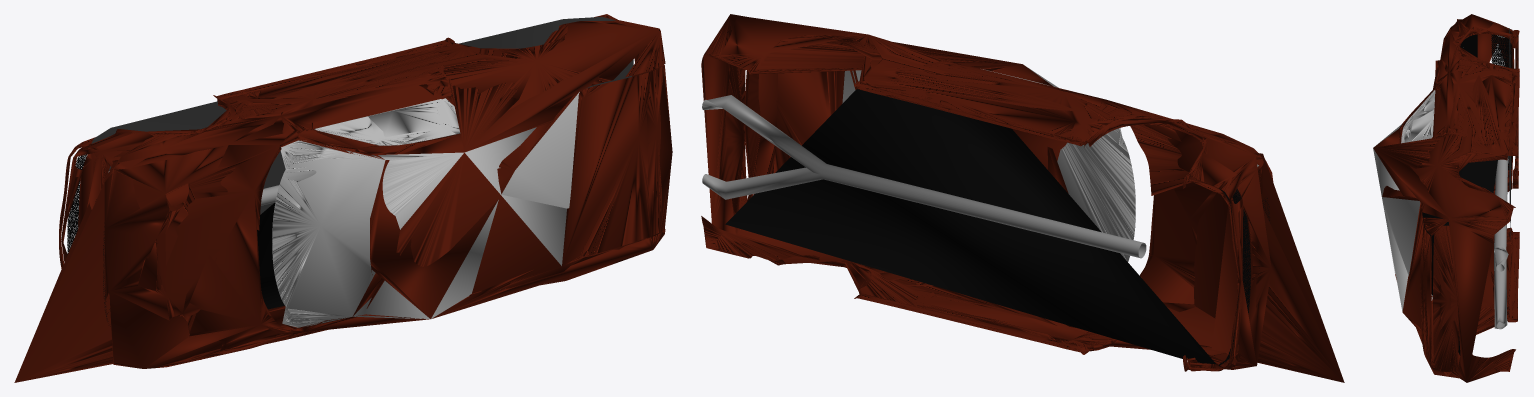
Rendered from challenger.obj.
The picture shows the model from 3 angles, left to right: view 1: azimuth 30°, elevation 25°; view 2: azimuth 150°, elevation 25°; view 3: azimuth 270°, elevation 25°; orthographic projection. The views are drawn at different scales.
Size of the model in its own units: 3621 by 1253 by 931.
